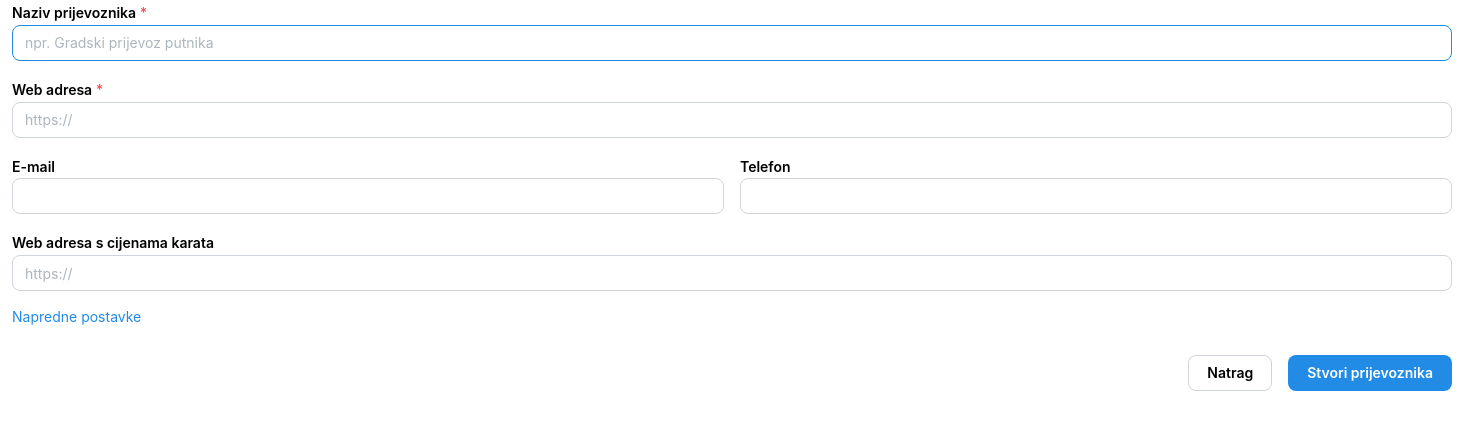
Test case: BlankSetupForm › rejects addresses without http or https
Type "GPP" into the field labelled "Naziv prijevoznika *".
click(732, 43); type("GPP")  # box [12, 25, 1452, 61]
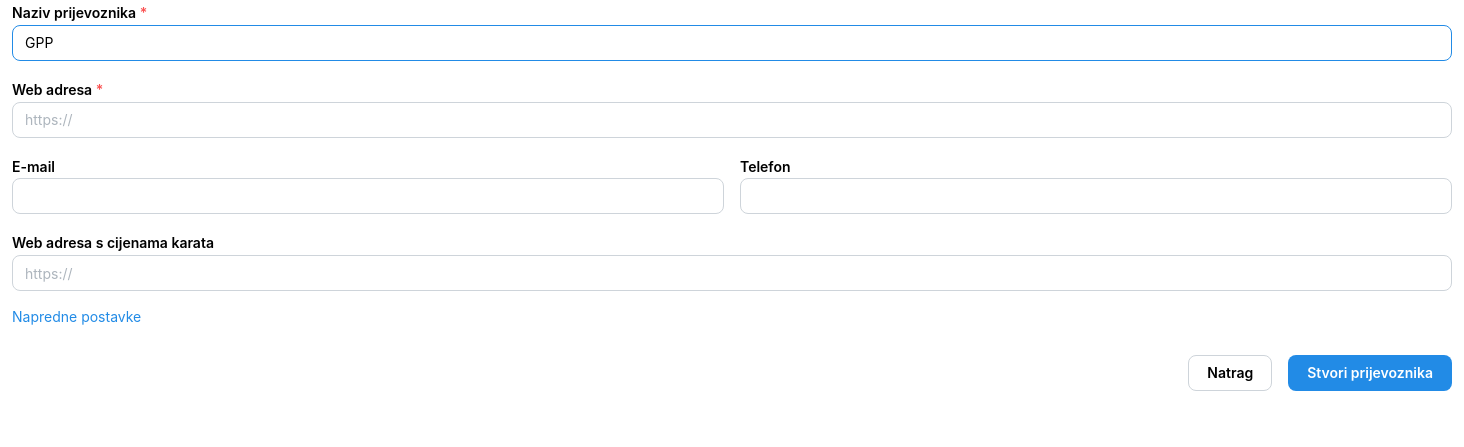
Type "gpp.hr" into the field labelled "Web adresa *".
click(732, 120); type("gpp.hr")  # box [12, 102, 1452, 138]
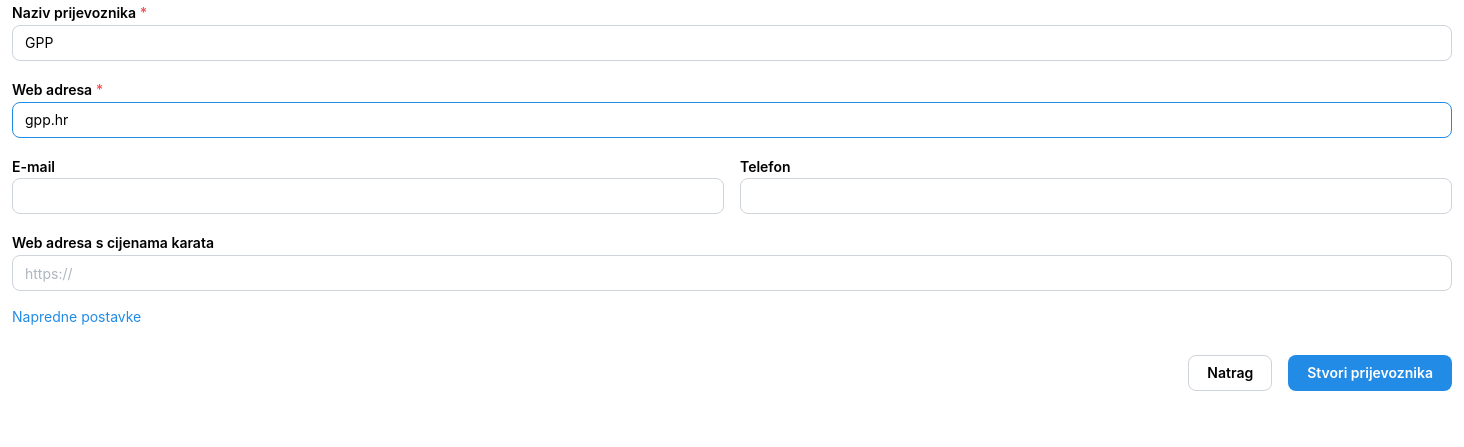
Type "info@" into the field labelled "E-mail".
click(368, 196); type("info@")  # box [12, 178, 724, 214]
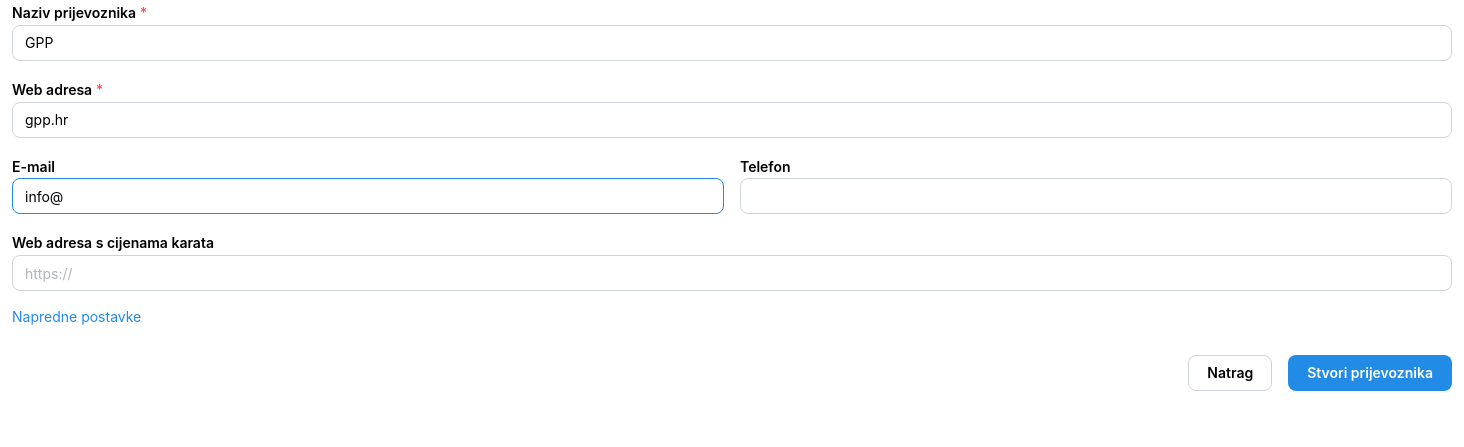
Click the button "Stvori prijevoznika".
click(1370, 374)  # box [1288, 356, 1452, 392]
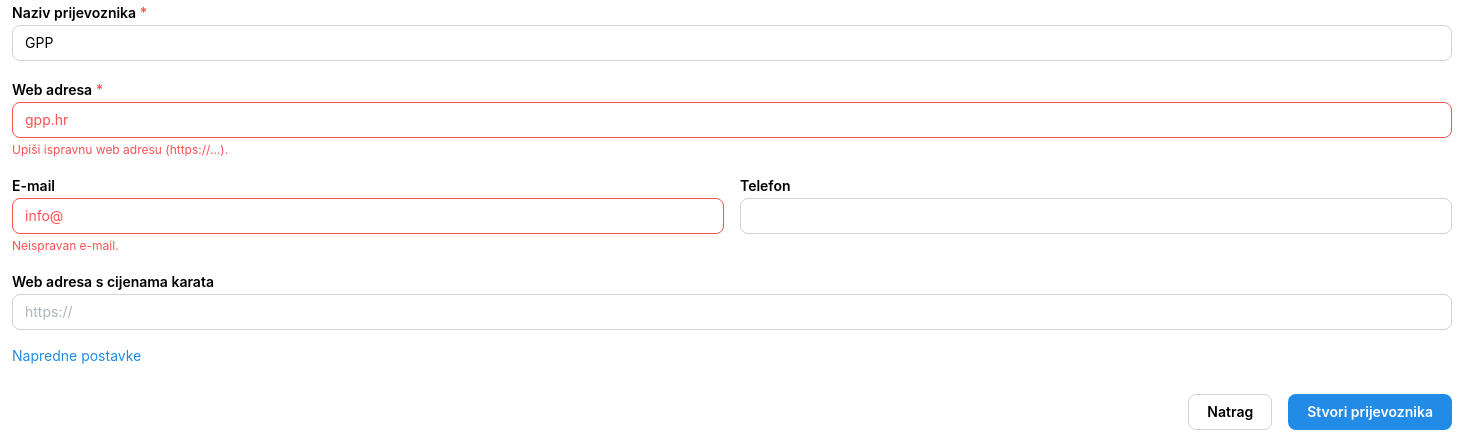
Expected: the text "Upiši ispravnu web adresu (https://…)." is shown, [12, 142, 228, 157]
Expected: the text "Neispravan e-mail." is shown, [12, 238, 119, 253]
